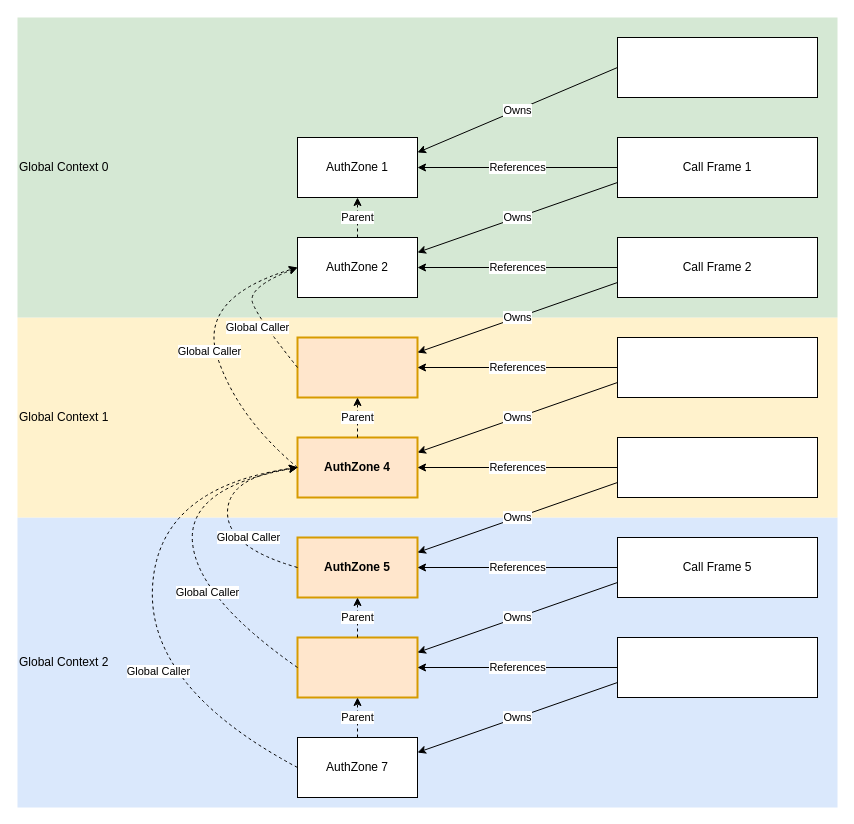
The diagram is 854 pixels wide and 824 high, and some of its shapes have lost their labels. The centre of each missing label's shape, as x and y in pixels:
"AuthZone 3" belongs at (x=357, y=367).
"AuthZone 6" belongs at (x=357, y=667).
"Call Frame 0" belongs at (x=717, y=67).
"Call Frame 3" belongs at (x=717, y=367).
"Call Frame 4" belongs at (x=717, y=467).
"Call Frame 6" belongs at (x=717, y=667).
